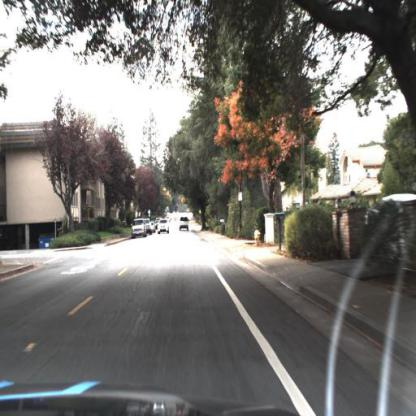car: (131, 216, 147, 238), (157, 218, 170, 234), (178, 216, 190, 232)
